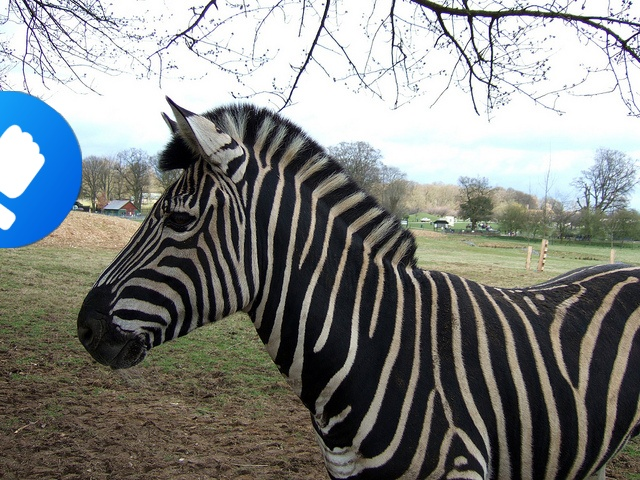like: (0, 91, 82, 248)
